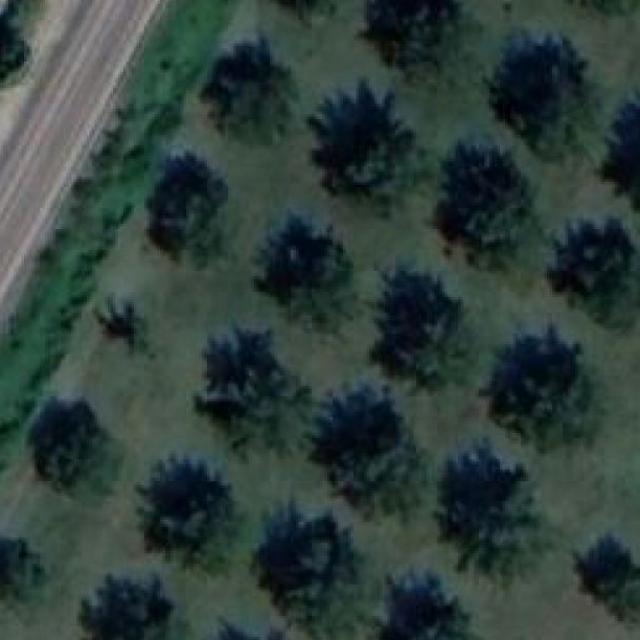Tree: (428, 435, 562, 600), (304, 381, 433, 527), (422, 135, 540, 276), (195, 323, 312, 464), (252, 499, 367, 640), (307, 80, 414, 222), (249, 222, 364, 347), (490, 39, 600, 169), (479, 337, 599, 455), (134, 454, 241, 577), (367, 268, 466, 391), (544, 222, 640, 340), (200, 38, 299, 148), (142, 150, 229, 271), (358, 0, 468, 85), (24, 396, 111, 496), (564, 529, 640, 631), (374, 574, 482, 640), (80, 576, 174, 640), (601, 90, 640, 233), (88, 286, 158, 356), (0, 532, 42, 616), (257, 0, 354, 30), (546, 0, 640, 22), (0, 17, 29, 80)
